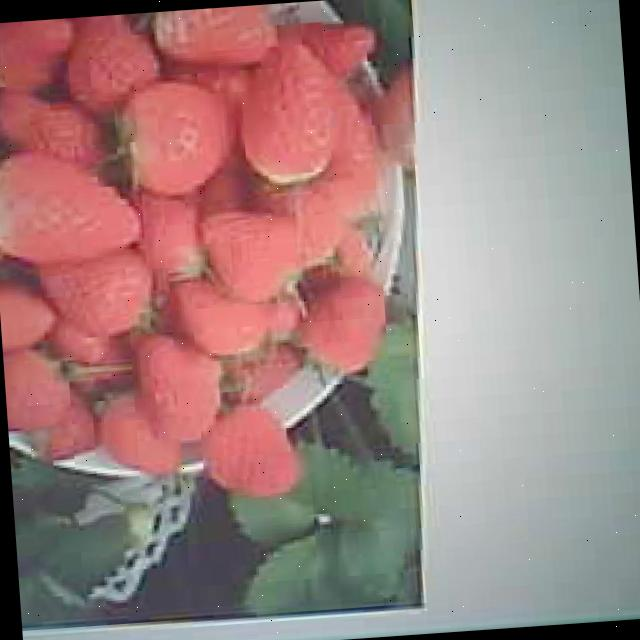strawberry: (0, 139, 140, 263), (240, 39, 335, 182)
